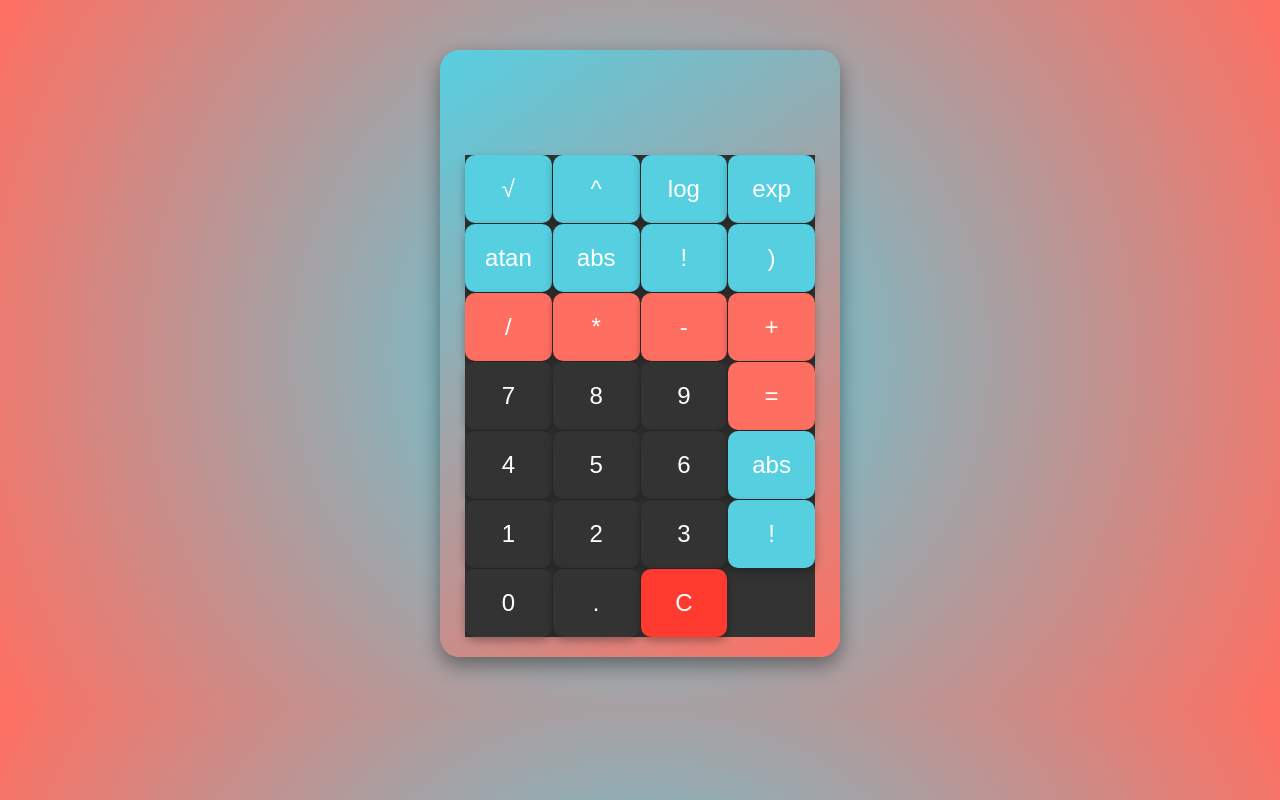
Calculator Component Tests › Should append digits to the display
Note: Verifica se os dígitos são exibidos corretamente
Click the button "7" at (509, 396), box [465,362,552,430]
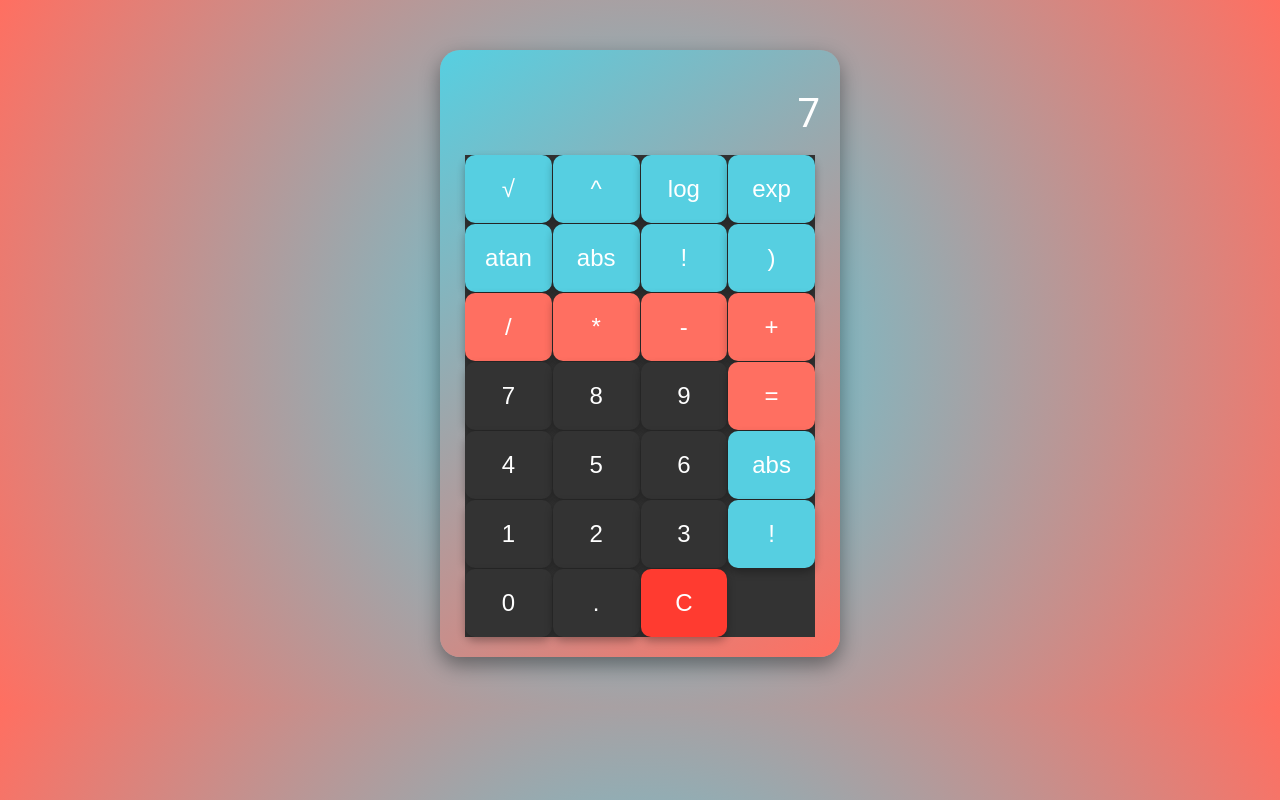
Click the button "8" at (597, 396), box [553,362,640,430]
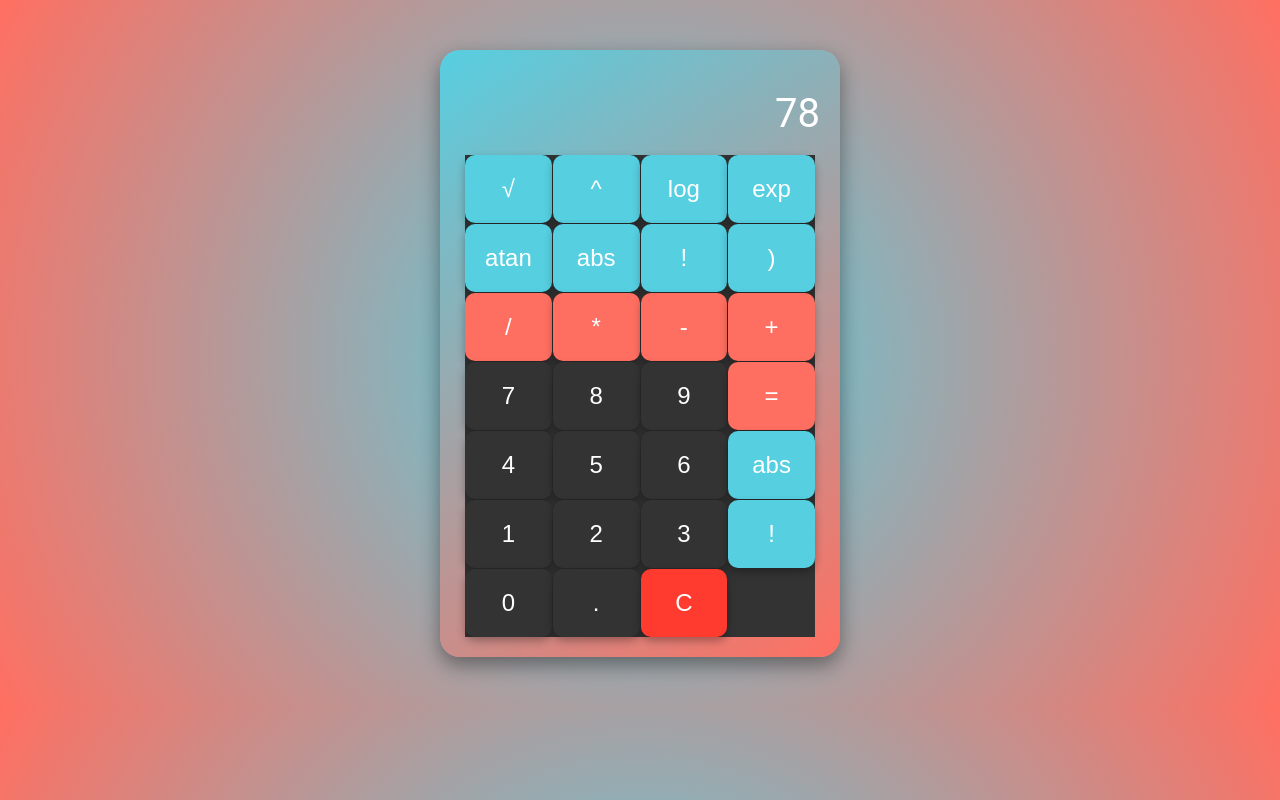
Check: the text with class "display" reads "78", box [775,90,820,137]
